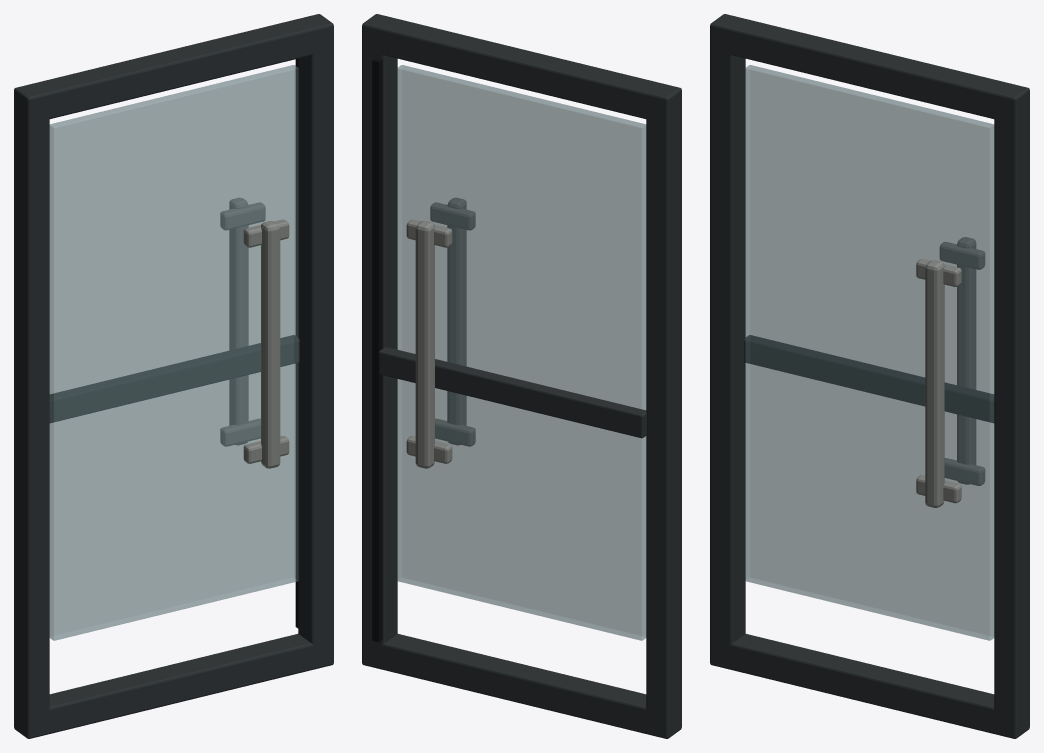
The model's file is exterior_glass_door_leaf.glb.
The picture shows the model from 3 angles, left to right: view 1: azimuth 30°, elevation 25°; view 2: azimuth 150°, elevation 25°; view 3: azimuth 330°, elevation 25°; orthographic projection.
Visible parts, largest first — view 1: exterior_glass_door_leaf; view 2: exterior_glass_door_leaf; view 3: exterior_glass_door_leaf.
Part boxes in pixels (bbox=[...]): exterior_glass_door_leaf: bbox=[14, 14, 333, 738]; exterior_glass_door_leaf: bbox=[362, 14, 681, 738]; exterior_glass_door_leaf: bbox=[710, 14, 1029, 738].
Size of the model in its own units: 0.95 by 1.9 by 0.215.
